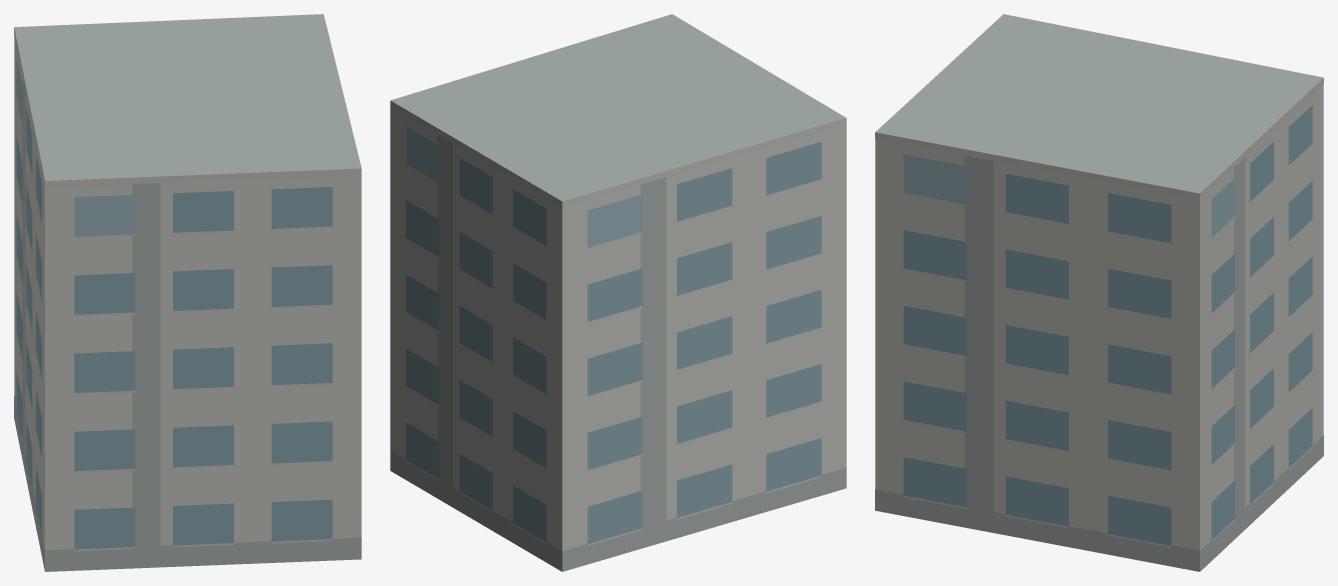
Rendered from survey-upis-32531926.glb.
The picture shows the model from 3 angles, left to right: view 1: azimuth 30°, elevation 25°; view 2: azimuth 150°, elevation 25°; view 3: azimuth 270°, elevation 25°; orthographic projection. The views are drawn at different scales.
Visible parts, largest first — view 1: survey-upis-32531926.tmp; view 2: survey-upis-32531926.tmp; view 3: survey-upis-32531926.tmp.
Part boxes in pixels (bbox=[...]): survey-upis-32531926.tmp: bbox=[14, 14, 361, 571]; survey-upis-32531926.tmp: bbox=[390, 14, 846, 571]; survey-upis-32531926.tmp: bbox=[875, 14, 1323, 571].
Size of the model in its own units: 14.76 by 14.5 by 15.59.
